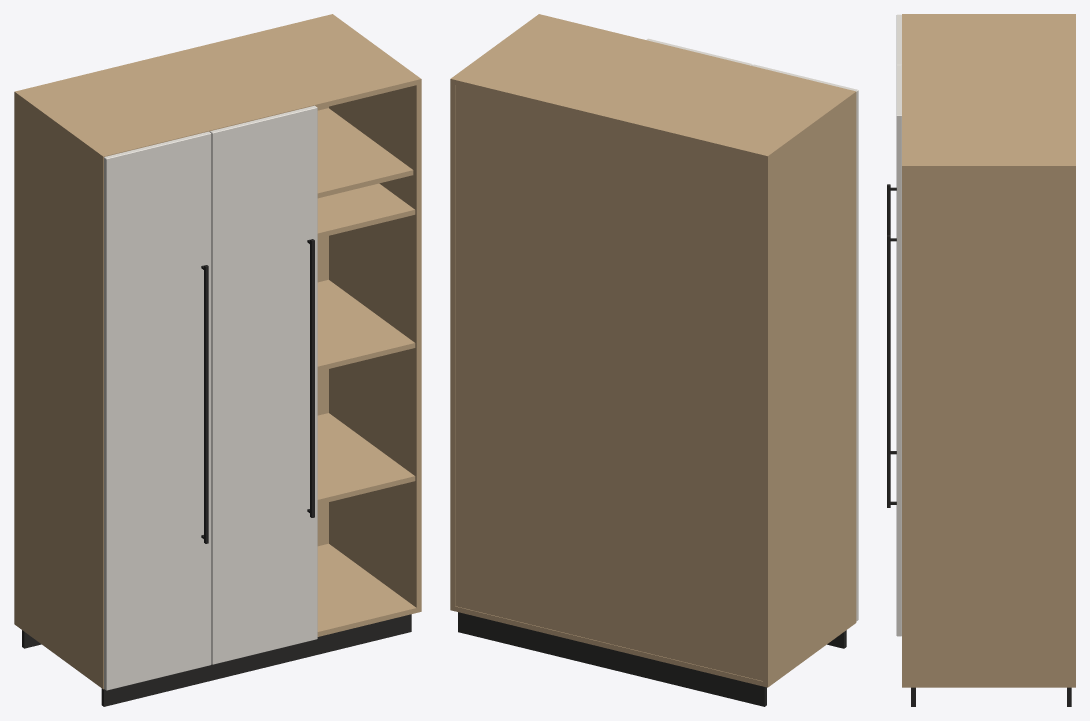
The model's file is 18_szafa_regal_120.glb.
The picture shows the model from 3 angles, left to right: view 1: azimuth 30°, elevation 25°; view 2: azimuth 150°, elevation 25°; view 3: azimuth 270°, elevation 25°; orthographic projection. The views are drawn at different scales.
Parts seen in each view (by area): view 1: Korpus, Front_drzwi_1, Front_drzwi_2, Cokol, Uchwyty; view 2: Korpus, Cokol, Front_drzwi_1; view 3: Korpus, Front_drzwi_2, Uchwyty.
Boxes of the visible parts, left/top/right/bottom form: Korpus: left=14, top=14, right=421, bottom=689; Front_drzwi_1: left=104, top=131, right=211, bottom=690; Front_drzwi_2: left=210, top=105, right=317, bottom=664; Cokol: left=22, top=614, right=411, bottom=706; Uchwyty: left=201, top=239, right=314, bottom=543; Korpus: left=450, top=14, right=856, bottom=687; Cokol: left=458, top=612, right=846, bottom=706; Front_drzwi_1: left=752, top=64, right=858, bottom=621; Korpus: left=902, top=14, right=1075, bottom=687; Front_drzwi_2: left=896, top=65, right=901, bottom=636; Uchwyty: left=887, top=184, right=896, bottom=507.
Bounding box in the file's own units: 1.2 × 2 × 0.63.
